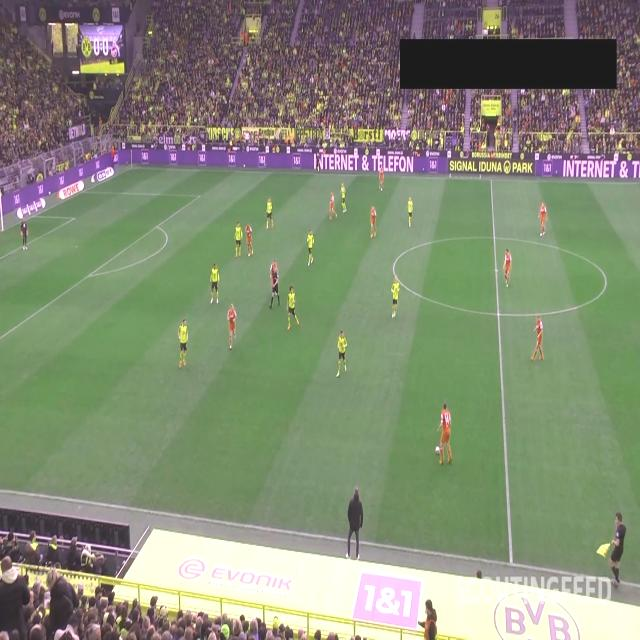ball: (435, 444, 440, 456)
f_player: (439, 405, 456, 467), (531, 314, 547, 364), (176, 317, 191, 370), (336, 331, 350, 378), (286, 286, 300, 331), (227, 304, 239, 349), (502, 248, 516, 286), (208, 264, 220, 306), (390, 278, 401, 320), (244, 224, 256, 258), (234, 220, 244, 260), (20, 216, 30, 252), (306, 228, 315, 266), (270, 258, 280, 291), (406, 198, 416, 230), (540, 198, 548, 236), (370, 206, 378, 240), (266, 197, 274, 229), (329, 192, 337, 220), (341, 182, 348, 214), (378, 165, 384, 191)
umpire: (602, 514, 630, 590), (268, 271, 282, 311), (316, 154, 322, 174)
